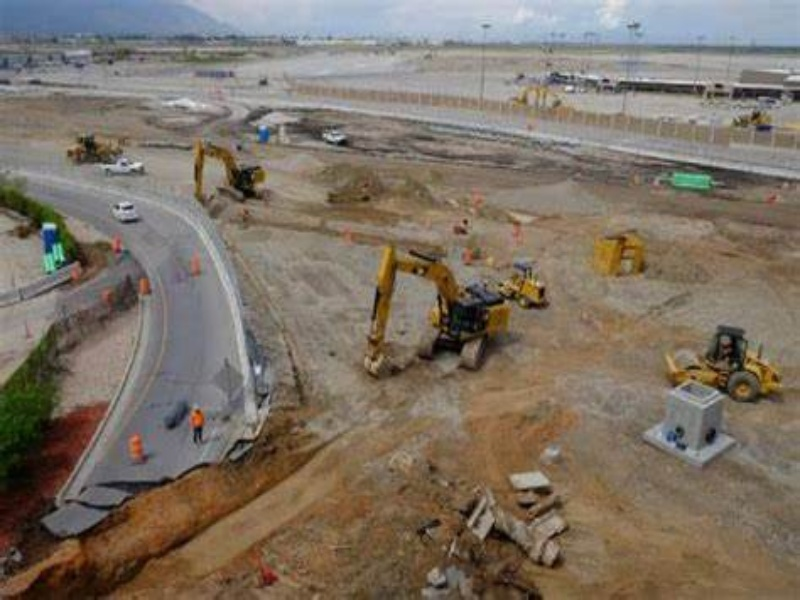excavator: (359, 240, 514, 379), (189, 136, 271, 209)
vehicle: (665, 325, 784, 406), (498, 263, 549, 312), (101, 159, 147, 178), (106, 200, 140, 225)
